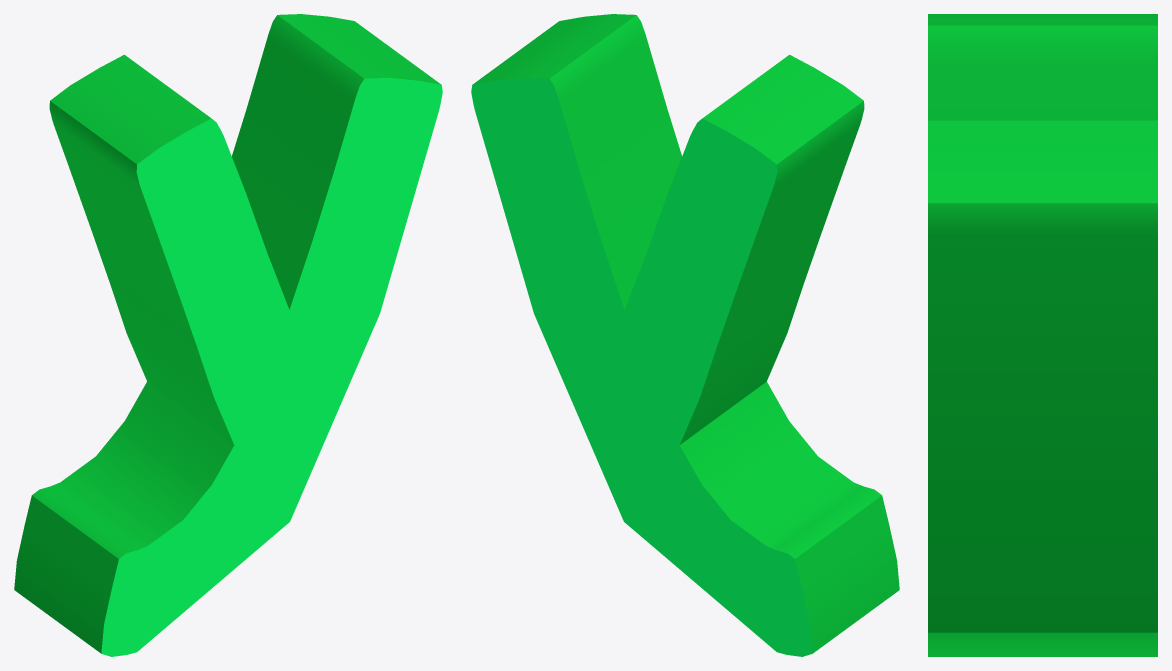
3 views of the same model, side by side, from view 1: azimuth 30°, elevation 25°; view 2: azimuth 150°, elevation 25°; view 3: azimuth 270°, elevation 25° (orthographic). The views are drawn at different scales.
Visible parts, largest first — view 1: y_Zyzol_Green; view 2: y_Zyzol_Green; view 3: y_Zyzol_Green.
Part boxes in pixels (box(x1,y1,x2,y2)): y_Zyzol_Green: box(14, 14, 442, 656); y_Zyzol_Green: box(471, 14, 899, 656); y_Zyzol_Green: box(928, 14, 1157, 656).
Size of what is drawn, in the model's own units: 0.1018 by 0.1476 by 0.045.
Materials: 2 (2 with a texture image).
